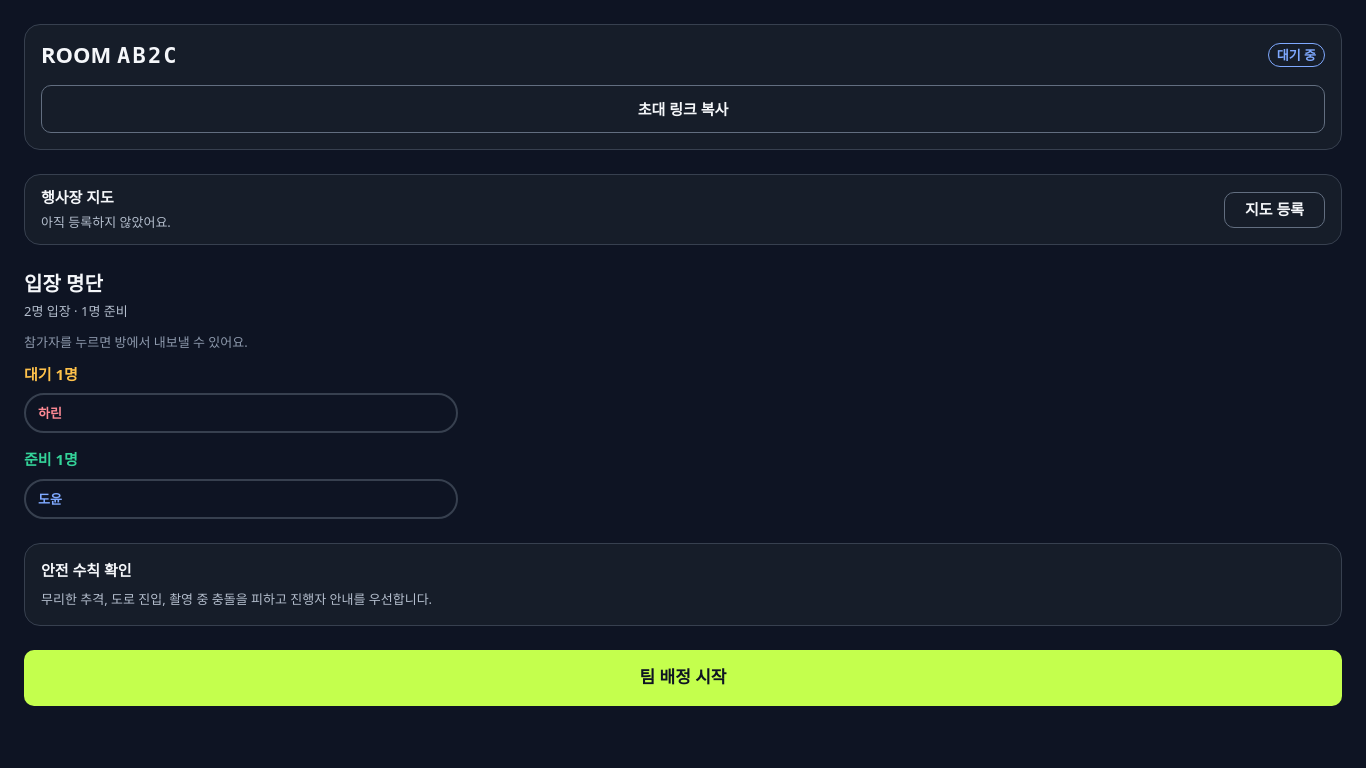
Test: WaitingRoomPage › 호스트: 가드 실패로 토스트가 쌓인 뒤 전원 레디로 재클릭하면 보드 전환 시 토스트 큐가 비워진다
The width and height of the screenshot is (1366, 768).
Click the button "팀 배정 시작" at (683, 678), box [24,650,1342,706]
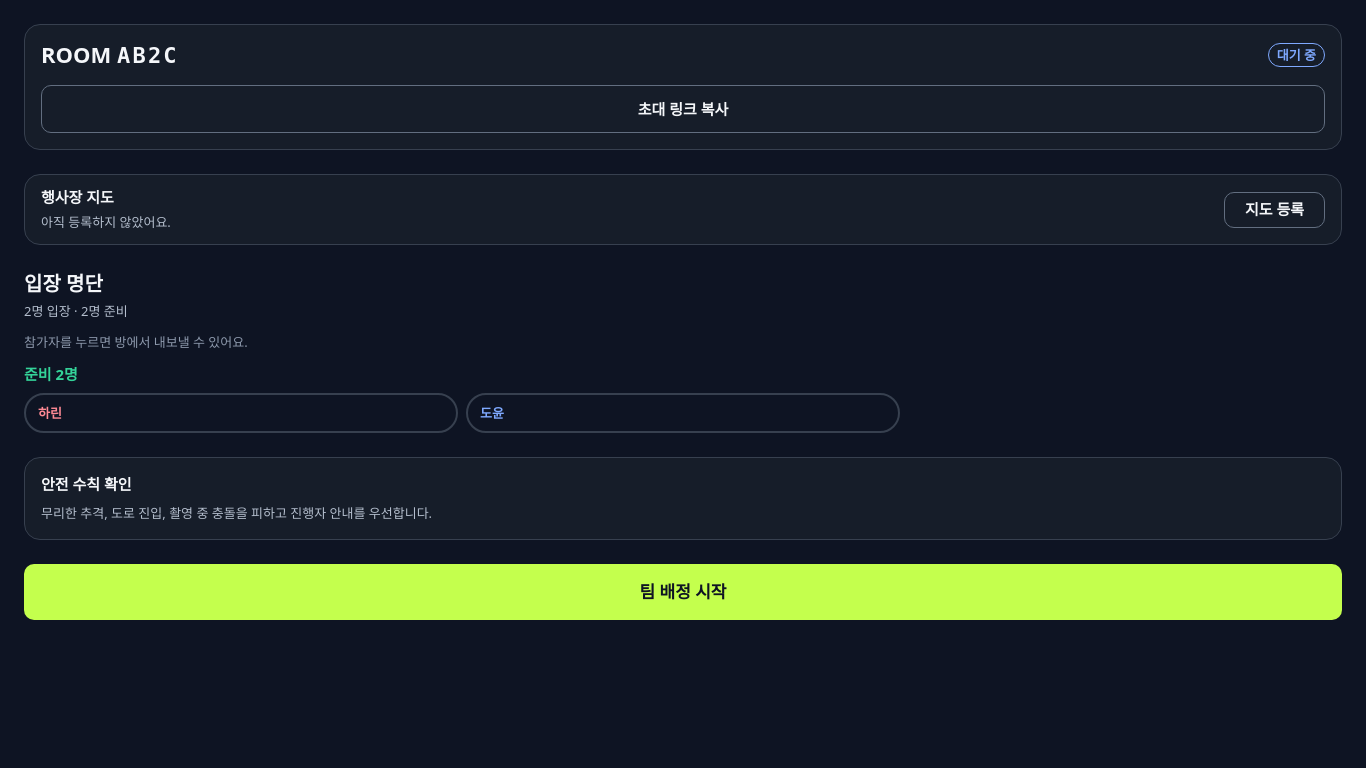
Click the button "팀 배정 시작" at (683, 592), box [24,564,1342,620]
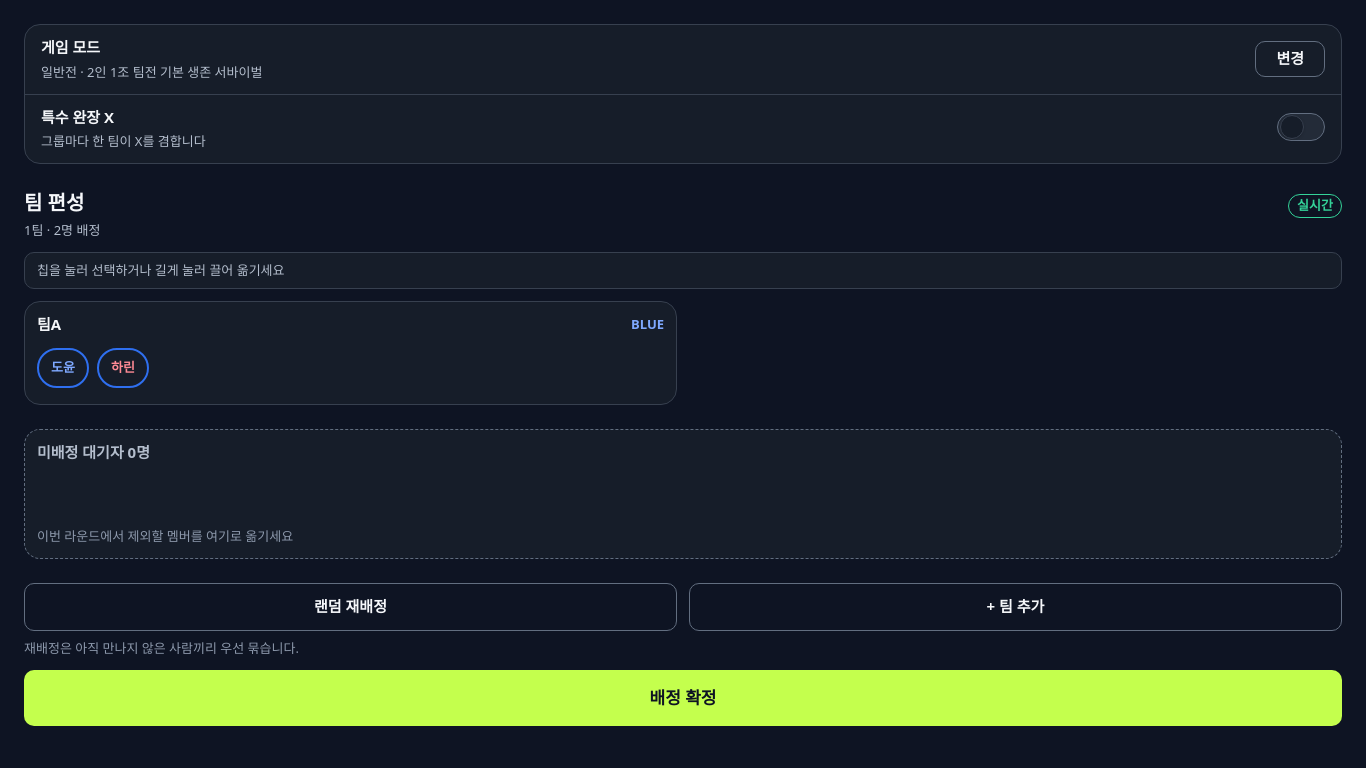
Check: the text "팀 편성" is shown, box [24,189,84,216]
